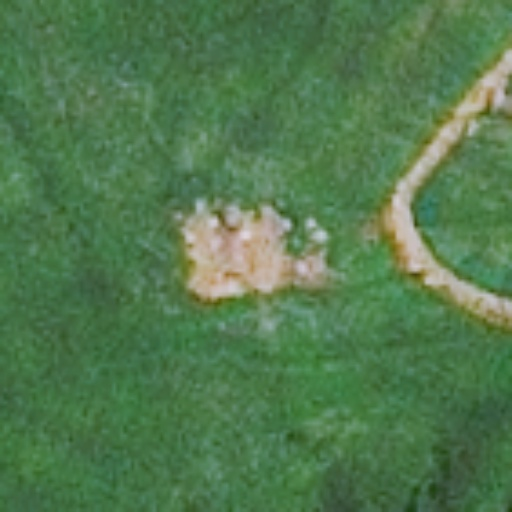landslide: (178, 200, 334, 304)
